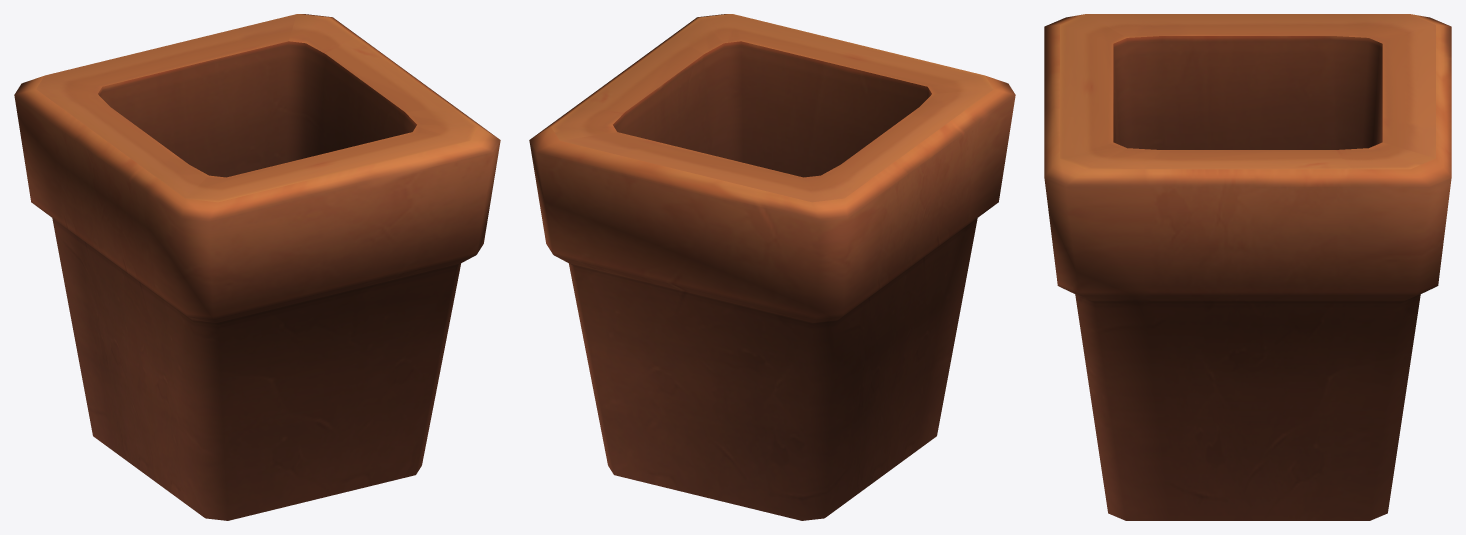
File: SE_Pot_03b.fbx
The picture shows the model from 3 angles, left to right: view 1: azimuth 30°, elevation 25°; view 2: azimuth 150°, elevation 25°; view 3: azimuth 270°, elevation 25°; orthographic projection. The views are drawn at different scales.
Parts seen in each view (by area): view 1: SE_Pot_03b; view 2: SE_Pot_03b; view 3: SE_Pot_03b.
Part boxes in pixels (x1,y1,x2,y2): SE_Pot_03b: (14, 14, 500, 520); SE_Pot_03b: (529, 14, 1015, 520); SE_Pot_03b: (1044, 14, 1451, 520).
Bounding box in the file's own units: 1.48 × 1.54 × 1.52.
